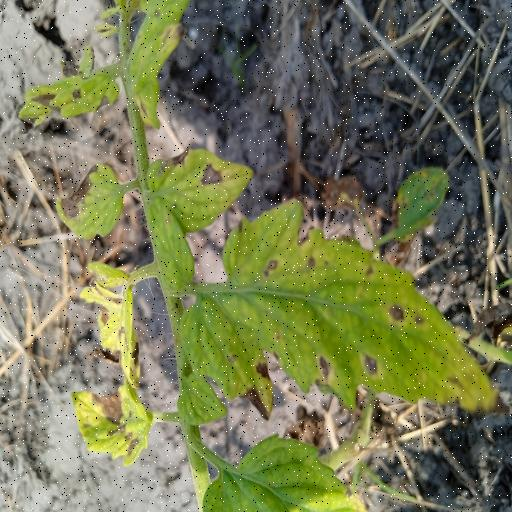Tomato_Brown_Spots: (176, 193, 512, 409), (154, 144, 257, 232), (52, 156, 127, 245)
